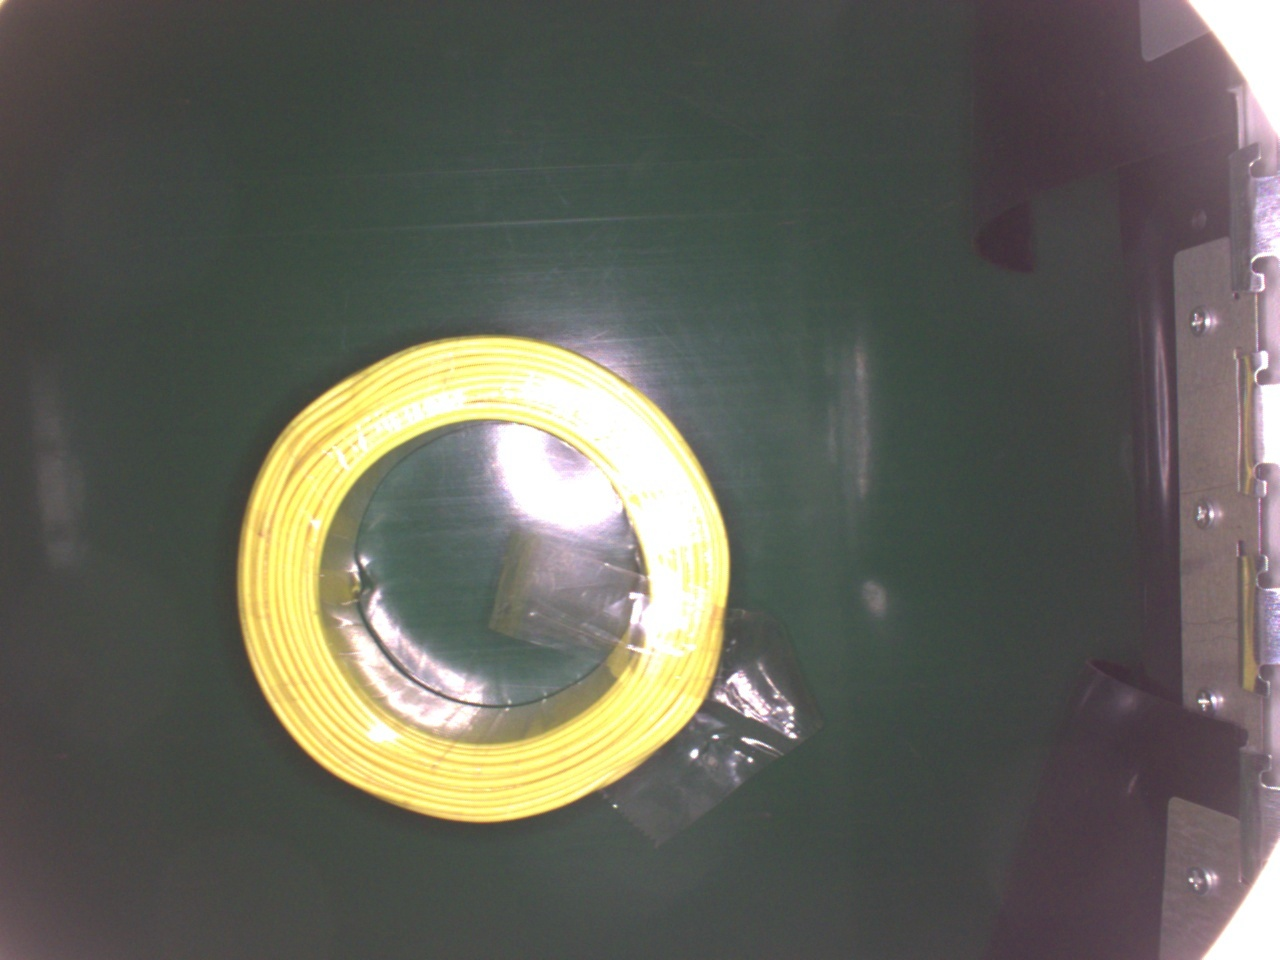yellow: (234, 332, 728, 822)
